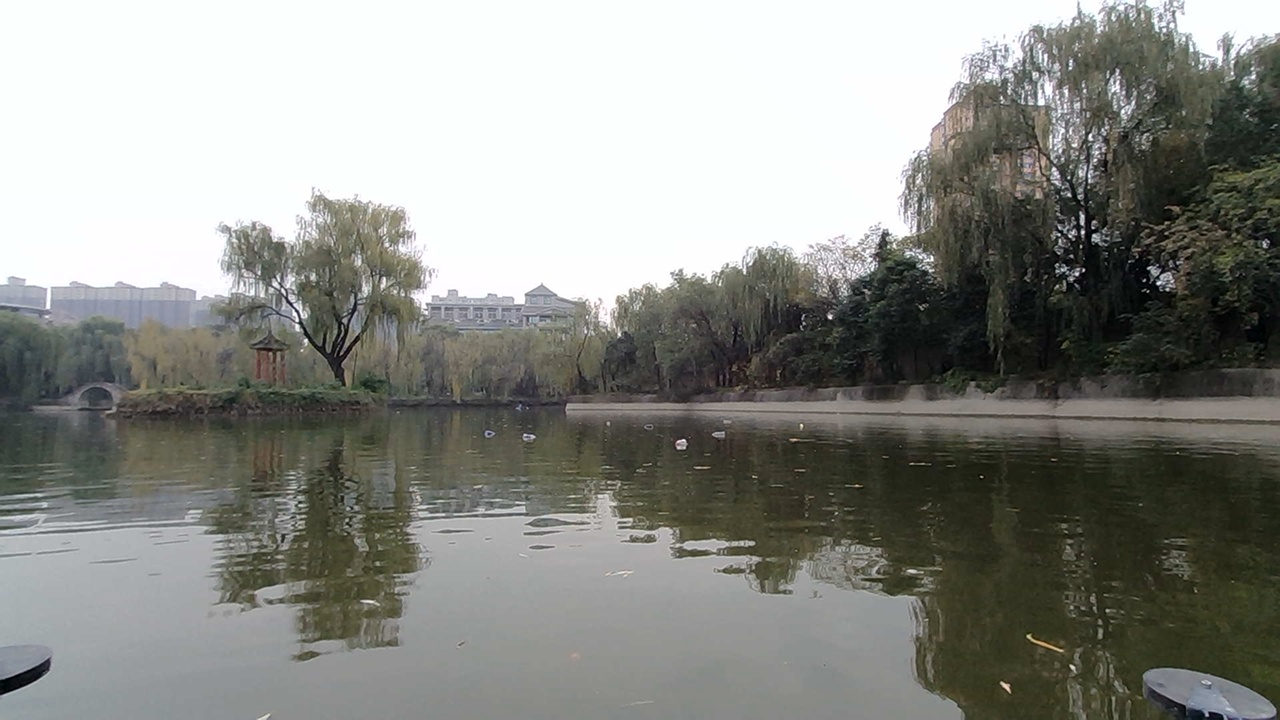bottle: (476, 414, 508, 449), (789, 414, 819, 442), (634, 410, 665, 435), (517, 421, 544, 448), (592, 409, 616, 429), (706, 421, 732, 439), (672, 434, 695, 452)
